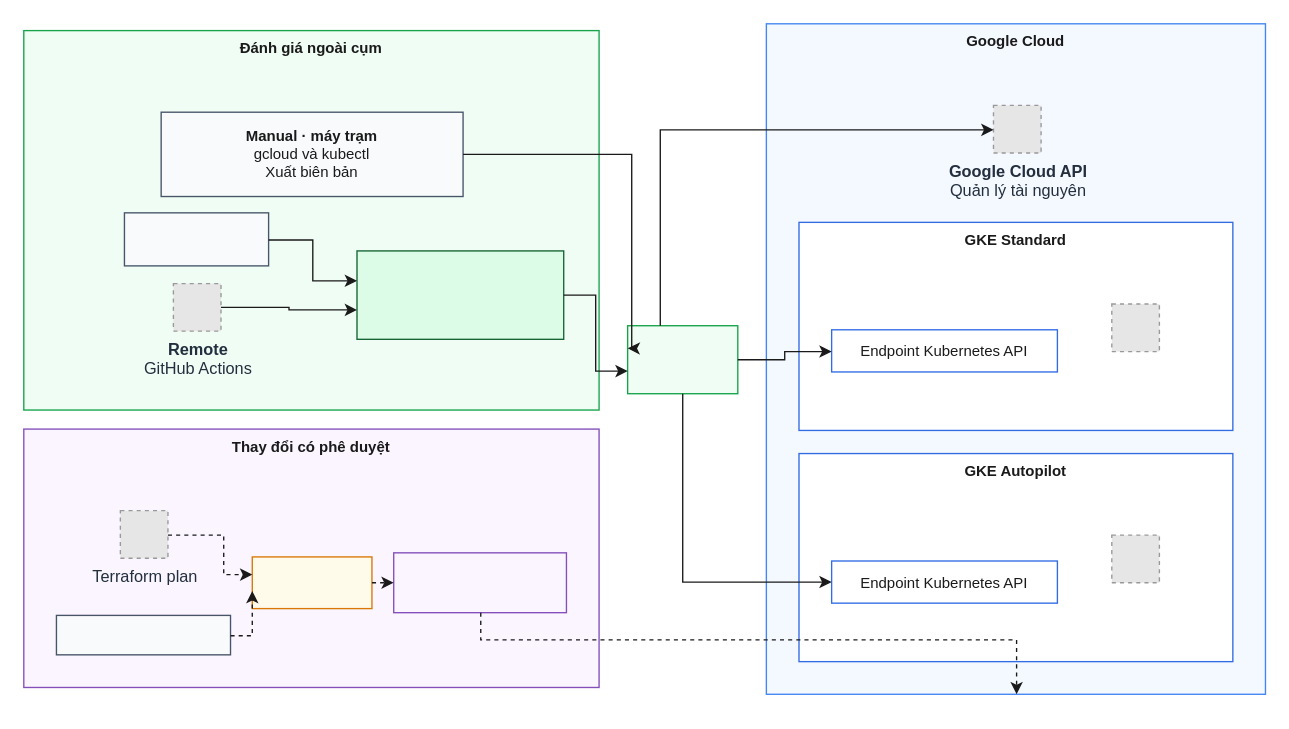
The diagram is 1289 pixels wide and 729 high, and some of its shapes have lost their labels. Grey dashed boxes stand in for pictures. The shapes that lost their labels are listed below. From the top down, each one's centre as x and y in pixels, then its label:
At (196,238): "Local Máy trạm".
At (460,294): "Python Audit Engine cis-gke-audit Xuất JSON / HTML".
At (682,359): "Truy vấn chỉ đọc".
At (311,582): "Phê duyệt".
At (479,582): "Terraform apply hoặc khắc phục".
At (143,634): "Đề xuất khắc phục".
